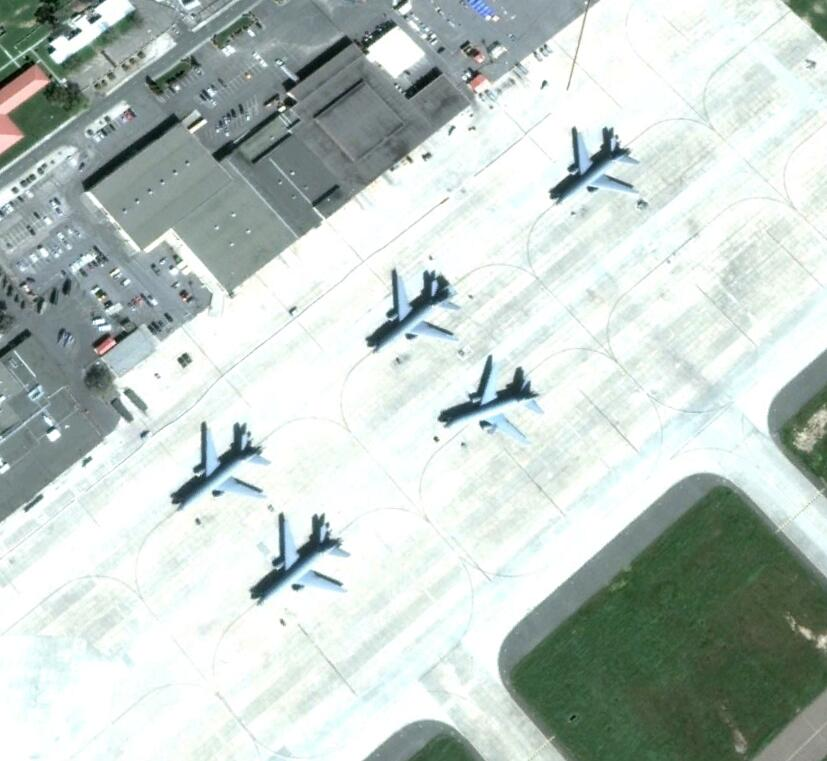A18: (251, 511, 347, 611), (174, 424, 273, 511), (443, 362, 542, 448), (369, 268, 462, 358), (549, 130, 643, 210)
